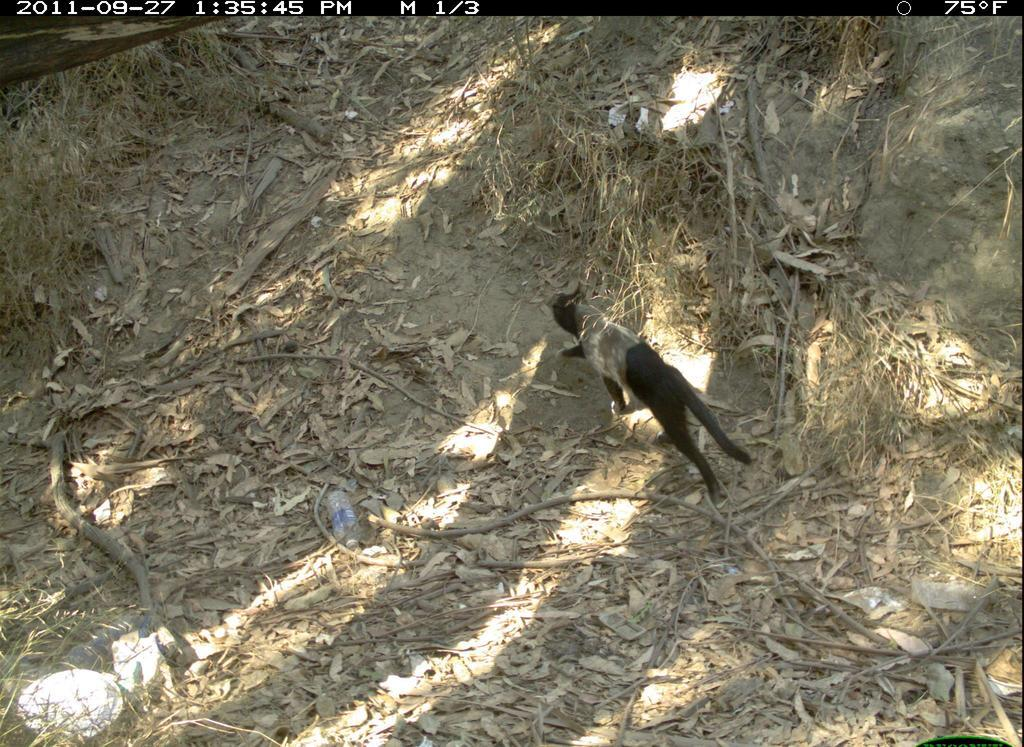cat: (542, 276, 760, 515)
